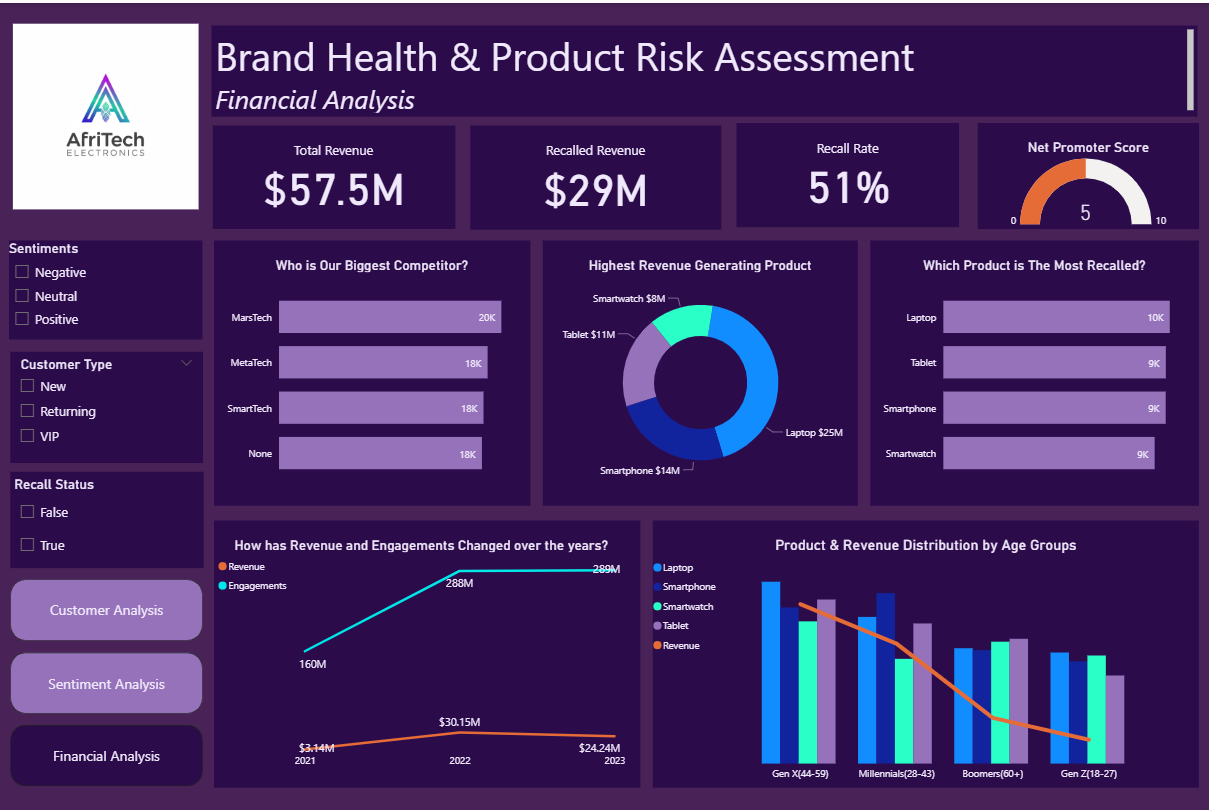

This screenshot's page, from the dashboard's own definition file:
{"tool":"powerbi","page":{"name":"Financial Analysis","canvas":[1500,1000],"ordinal":2},"visuals":[{"type":"cardVisual","title":"Total Revenue","fields":{"Data":["Sum(public transactiondata.purchaseamount)"]},"box":[264.3,151.5,299.8,128.3],"z":0},{"type":"cardVisual","fields":{"Data":["New measures.Recalled Revenue"]},"box":[583.3,151.8,310.7,129],"z":1000},{"type":"lineChart","title":"How has Revenue and Engagements Changed over the years?","fields":{"Category":["public transactiondata.transactionyear"],"Y":["Sum(public transactiondata.purchaseamount)","New measures.Total Engagements"]},"box":[265.8,639.9,527,330.8],"z":2000},{"type":"donutChart","title":"Highest Revenue Generating Product","fields":{"Category":["public transactiondata.productpurchased"],"Y":["Sum(public transactiondata.purchaseamount)"]},"box":[672.3,293.7,389.5,327.7],"z":3000},{"type":"clusteredBarChart","title":"Who is Our Biggest Competitor?","fields":{"Category":["public socialmedia.competitor_x"],"Y":["CountNonNull(public socialmedia.competitor_x)"]},"box":[265.8,293.7,391,327.7],"z":4000},{"type":"cardVisual","fields":{"Data":["New measures.Recall Rate"]},"box":[912.5,148.7,275.1,129],"z":5000},{"type":"clusteredBarChart","title":"Which Product is The Most Recalled?","fields":{"Category":["public transactiondata.productpurchased"],"Y":["New measures.Recall"]},"box":[1077.3,293.7,406.5,327.7],"z":6000},{"type":"slicer","title":"Recall Status","fields":{"Values":["public transactiondata.productrecalled"]},"box":[13.9,579.6,239.6,119],"z":7000},{"type":"gauge","title":"Net Promoter Score","fields":{"Y":["New measures.NPScore"]},"box":[1210.2,148.4,273.6,131.4],"z":8000},{"type":"lineClusteredColumnComboChart","title":"Product & Revenue Distribution by Age Groups","fields":{"Category":["public customerdata.Age Groups"],"Series":["public transactiondata.productpurchased"],"Y":["CountNonNull(public transactiondata.productpurchased)"],"Y2":["Sum(public transactiondata.purchaseamount)"]},"box":[808.3,639.9,675.4,330.8],"z":9000},{"type":"image","box":[12.4,0,239.6,281.3],"z":10000},{"type":"textbox","box":[262.8,27.8,1219.5,112.8],"z":11000},{"type":"pageNavigator","box":[13.9,712.5,238,258.1],"z":12000},{"type":"slicer","fields":{"Values":["public customerdata.customertype"]},"box":[13.9,431.2,238,137.6],"z":13000},{"type":"slicer","title":"Sentiments","fields":{"Values":["public socialmedia.sentiment"]},"box":[12.4,293.7,239.6,122.1],"z":14000}]}

Visuals, with their boxes in screenshot pixels (x1, y1, x2, y2), scaled from the page's 1500x1000 canvas onto the 1209x810 screenshot:
"Total Revenue" cardVisual: 213 123 455 227
cardVisual - New measures.Recalled Revenue: 470 123 721 227
"How has Revenue and Engagements Changed over the years?" lineChart: 214 518 639 786
"Highest Revenue Generating Product" donutChart: 542 238 856 503
"Who is Our Biggest Competitor?" clusteredBarChart: 214 238 529 503
cardVisual - New measures.Recall Rate: 735 120 957 225
"Which Product is The Most Recalled?" clusteredBarChart: 868 238 1196 503
"Recall Status" slicer: 11 469 204 566
"Net Promoter Score" gauge: 975 120 1196 227
"Product & Revenue Distribution by Age Groups" lineClusteredColumnComboChart: 651 518 1196 786
image: 10 0 203 228
textbox: 212 23 1195 114
pageNavigator: 11 577 203 786
slicer - public customerdata.customertype: 11 349 203 461
"Sentiments" slicer: 10 238 203 337
